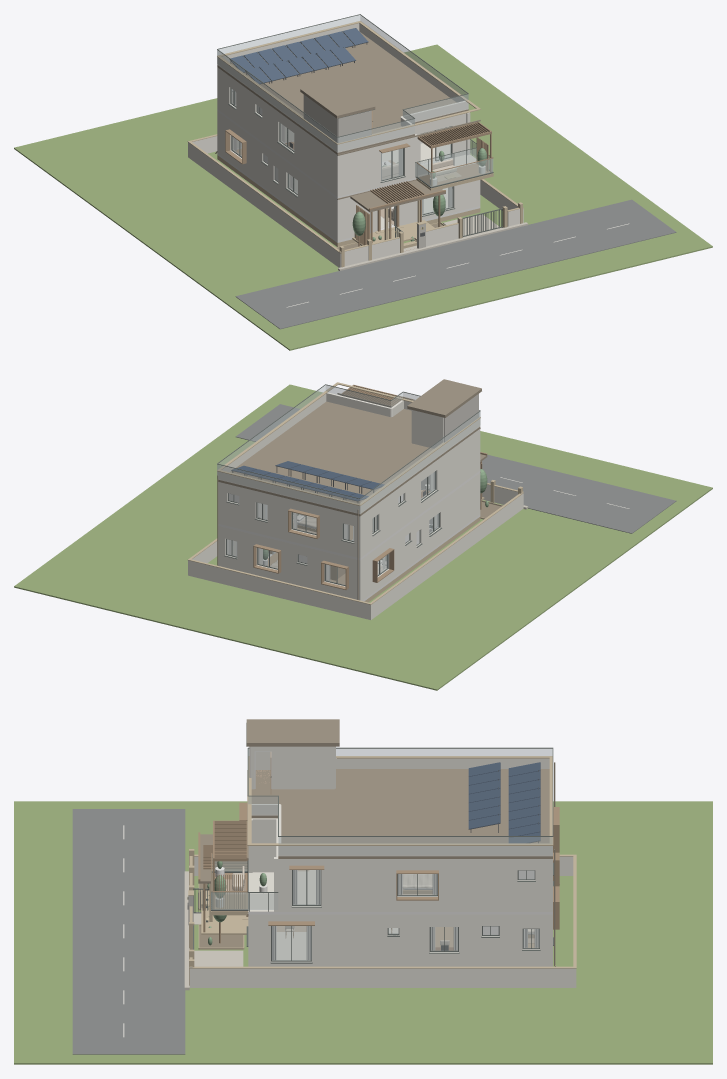
3 views of the same model, one above another, from view 1: azimuth 30°, elevation 25°; view 2: azimuth 150°, elevation 25°; view 3: azimuth 270°, elevation 25° (orthographic). The views are drawn at different scales.
Visible parts, largest first — view 1: world, roof-slab, roof-guard-0, parapet, F0-W001/0, F1-W043/0, coping, ST-1-headhouse-lid, F1-W044/0, F0-W012/1, exterior-porch-01-roof, roof-guard-0-cap (+7 smaller); view 2: world, roof-slab, roof-guard-0, parapet, ST-1-headhouse-lid, F0-W001/0, F1-W043/0, coping, ST-1-roof-wall-rear/0, F1-W071/0, F1-floor, F1-W055/0 (+6 smaller); view 3: world, roof-slab, roof-guard-0, parapet, F1-W073/1, ST-1-headhouse-lid, ST-1-roof-wall-right/0, F1-W073/0, coping, F1-W073/2, F0-W038/0, F0-W037/1 (+18 smaller).
Boxes of the visible parts, left/top/right/bottom form: world: left=14, top=28, right=712, bottom=350; roof-slab: left=217, top=31, right=468, bottom=154; roof-guard-0: left=217, top=15, right=468, bottom=151; parapet: left=217, top=23, right=468, bottom=152; F0-W001/0: left=301, top=173, right=340, bottom=240; F1-W043/0: left=301, top=129, right=340, bottom=196; coping: left=217, top=21, right=480, bottom=144; ST-1-headhouse-lid: left=300, top=80, right=375, bottom=118; F1-W044/0: left=340, top=147, right=373, bottom=195; F0-W012/1: left=374, top=180, right=480, bottom=227; exterior-porch-01-roof: left=350, top=180, right=445, bottom=212; roof-guard-0-cap: left=217, top=14, right=468, bottom=137; world: left=14, top=384, right=712, bottom=690; roof-slab: left=218, top=401, right=480, bottom=516; roof-guard-0: left=217, top=385, right=480, bottom=512; parapet: left=217, top=392, right=480, bottom=514; ST-1-headhouse-lid: left=407, top=379, right=481, bottom=417; F0-W001/0: left=444, top=473, right=480, bottom=540; F1-W043/0: left=444, top=429, right=480, bottom=496; coping: left=217, top=382, right=480, bottom=505; ST-1-roof-wall-rear/0: left=412, top=410, right=443, bottom=448; F1-W071/0: left=218, top=499, right=246, bottom=530; F1-floor: left=218, top=471, right=480, bottom=560; F1-W055/0: left=271, top=525, right=332, bottom=551; world: left=14, top=723, right=712, bottom=1064; roof-slab: left=251, top=769, right=552, bottom=858; roof-guard-0: left=248, top=748, right=552, bottom=854; parapet: left=251, top=757, right=552, bottom=856; F1-W073/1: left=339, top=871, right=504, bottom=896; ST-1-headhouse-lid: left=246, top=719, right=339, bottom=746; ST-1-roof-wall-right/0: left=251, top=751, right=334, bottom=789; F1-W073/0: left=339, top=896, right=504, bottom=911; coping: left=247, top=756, right=553, bottom=845; F1-W073/2: left=339, top=859, right=504, bottom=871; F0-W038/0: left=339, top=914, right=374, bottom=966; F0-W037/1: left=252, top=923, right=339, bottom=962.
Size of the model in its own units: 31.72 by 9.58 by 35.81.
